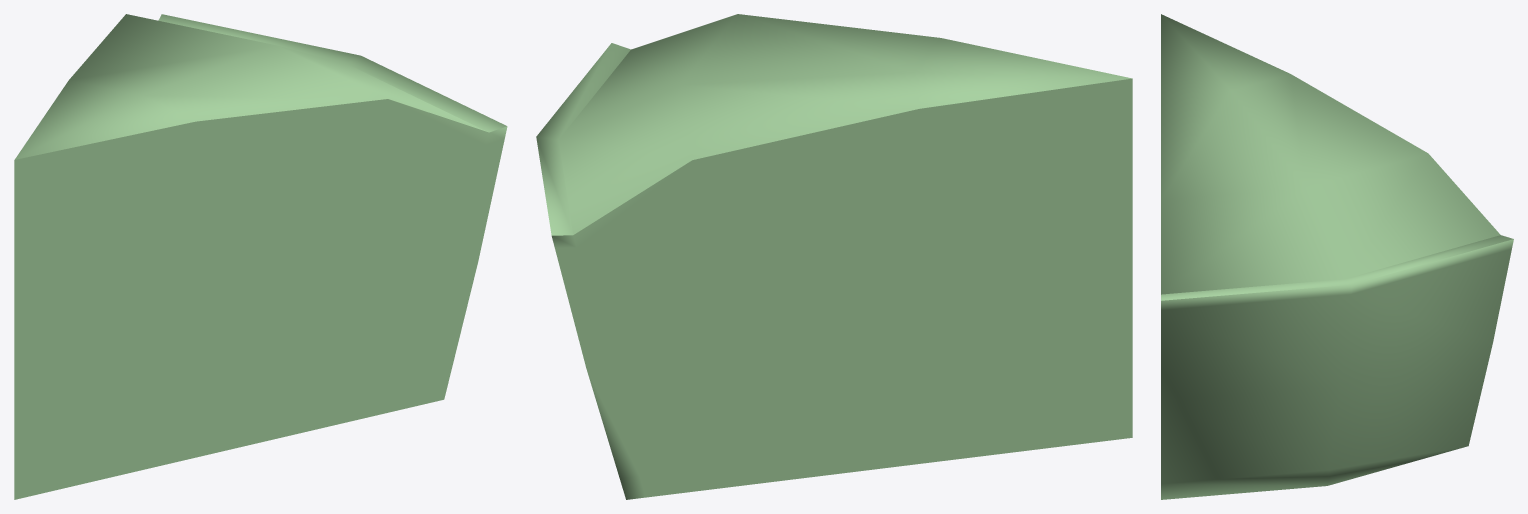
File: apple_pie_slice.fbx
The picture shows the model from 3 angles, left to right: view 1: azimuth 30°, elevation 25°; view 2: azimuth 150°, elevation 25°; view 3: azimuth 270°, elevation 25°; orthographic projection. The views are drawn at different scales.
Parts seen in each view (by area): view 1: pie_slice; view 2: pie_slice; view 3: pie_slice.
Part boxes in pixels (<box>): pie_slice: <box>14,14,507,499</box>; pie_slice: <box>536,14,1132,499</box>; pie_slice: <box>1161,14,1513,499</box>.
Size of the model in its own units: 30 by 20.03 by 21.21.
